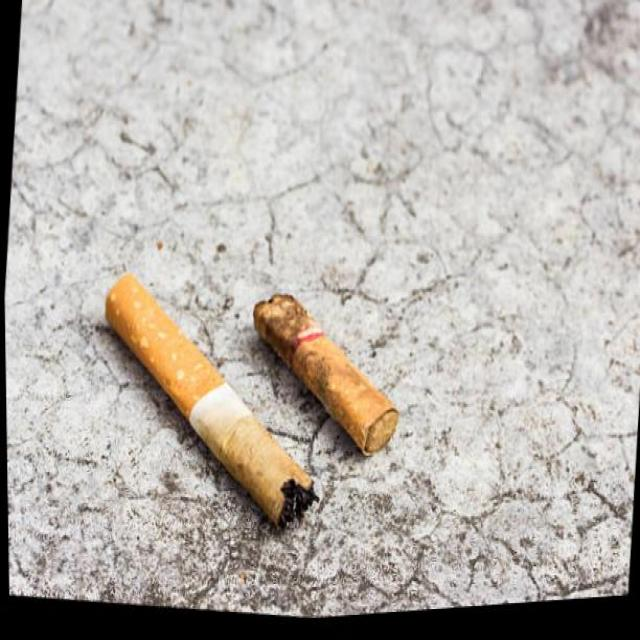cigarette: (88, 257, 332, 556), (241, 283, 406, 476)
